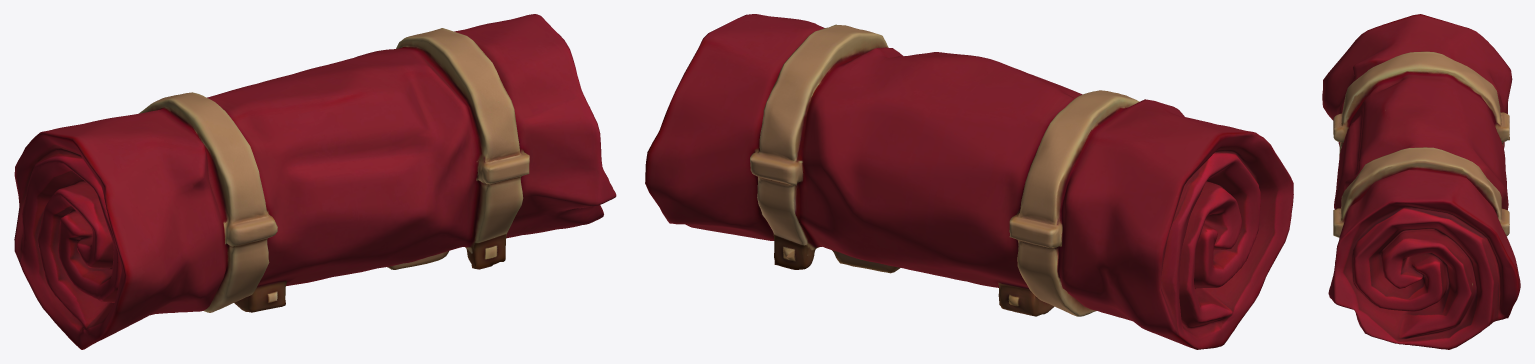
File: tripo_convert_a89869b5-fdc0-48c2-a3b8-33a067051391.fbx
The picture shows the model from 3 angles, left to right: view 1: azimuth 30°, elevation 25°; view 2: azimuth 150°, elevation 25°; view 3: azimuth 270°, elevation 25°; orthographic projection. The views are drawn at different scales.
Visible parts, largest first — view 1: tripo_node_a89869b5; view 2: tripo_node_a89869b5; view 3: tripo_node_a89869b5.
Part boxes in pixels (x1,y1,x2,y2): tripo_node_a89869b5: (14, 14, 616, 349); tripo_node_a89869b5: (645, 14, 1293, 349); tripo_node_a89869b5: (1322, 14, 1520, 349).
Size of the model in its own units: 97.63 by 42.66 by 38.92.
1 material, 1 textured.
